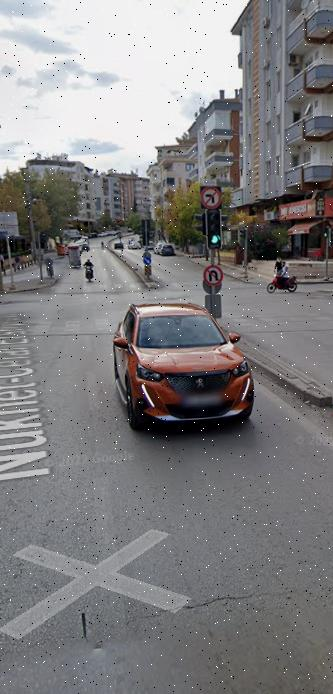greenlight: (205, 211, 222, 247)
leftturnsareforbidden: (198, 183, 224, 209)
